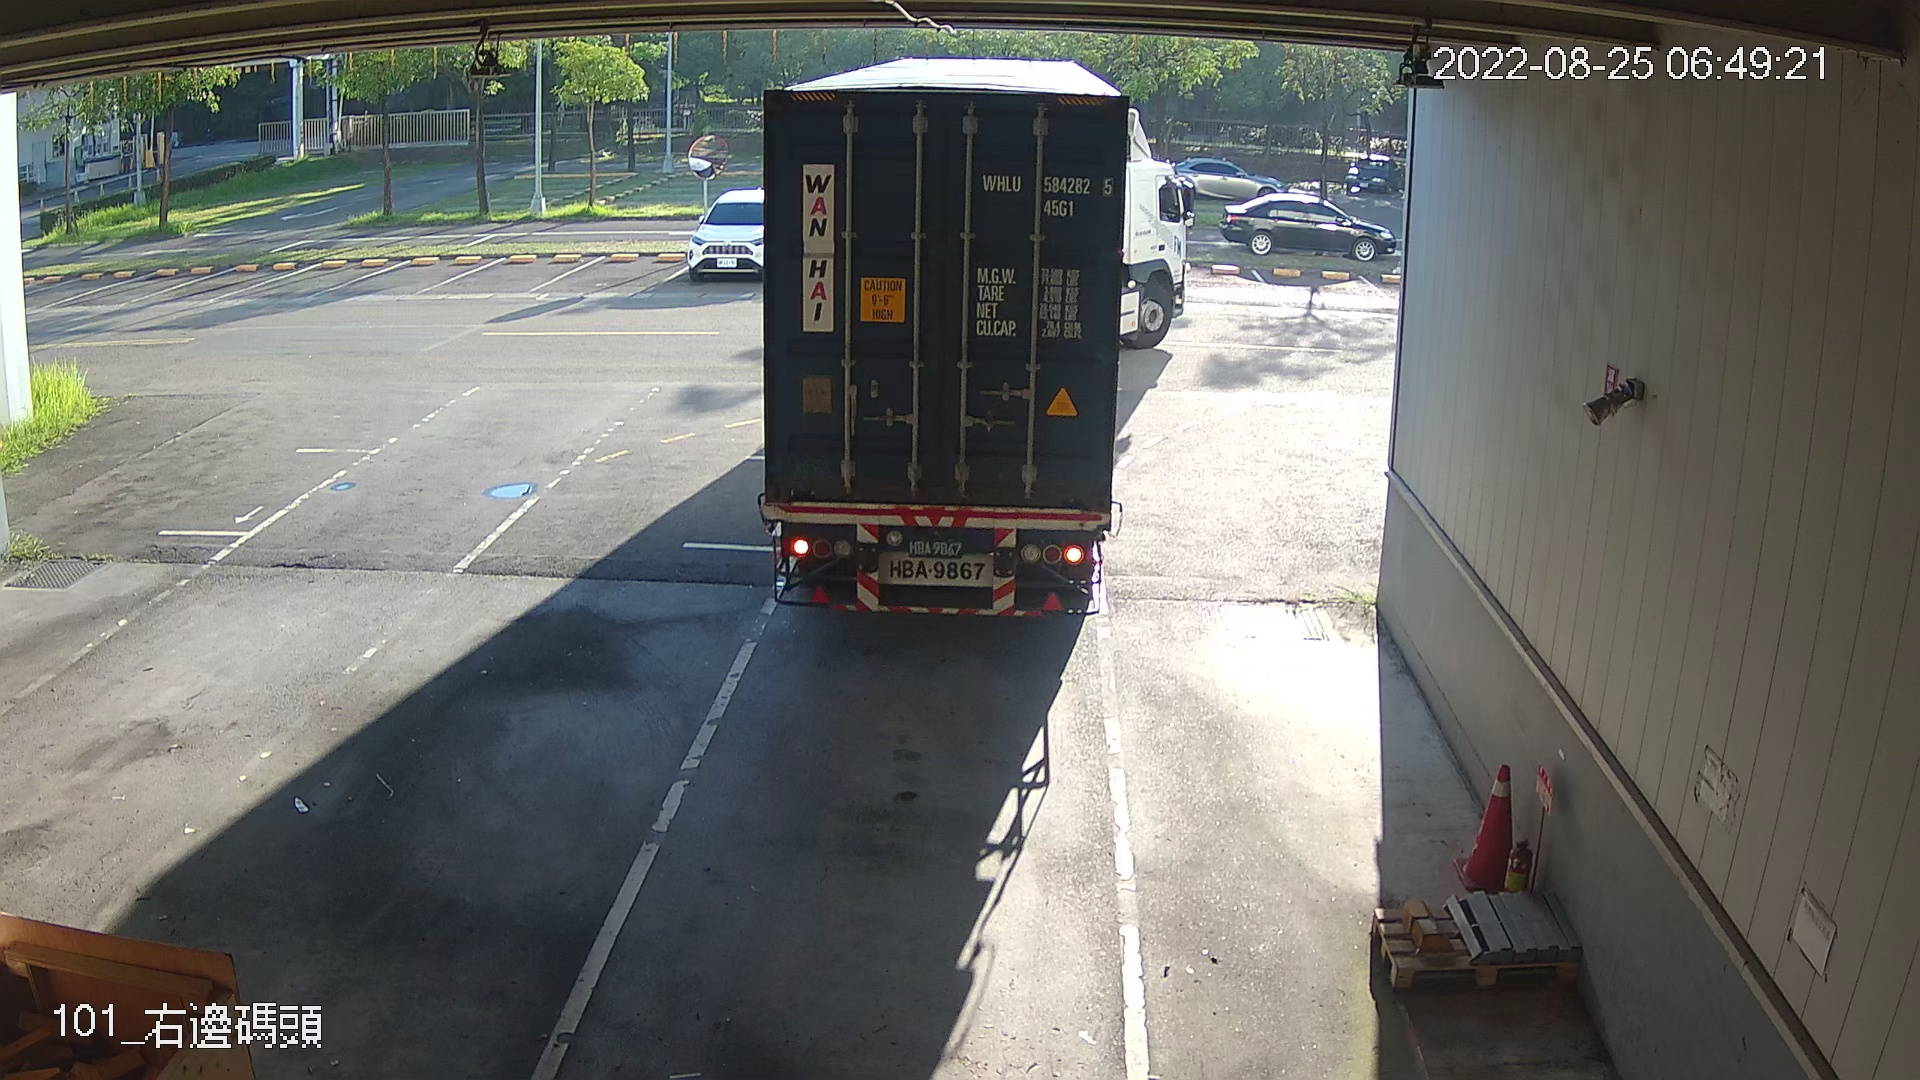container: (978, 164, 1120, 225)
